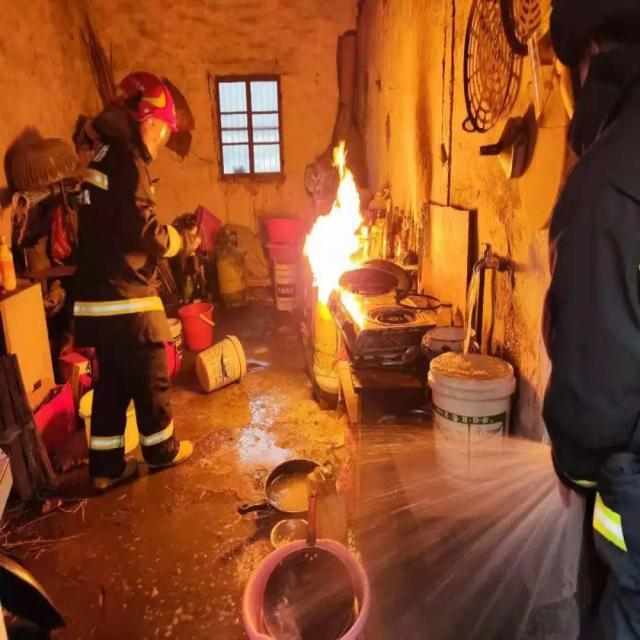Fire: (302, 142, 373, 302)
